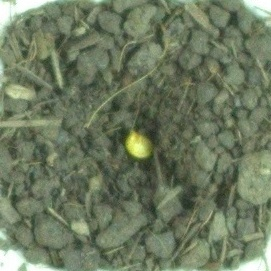pepper seed: (45, 46, 203, 207)
